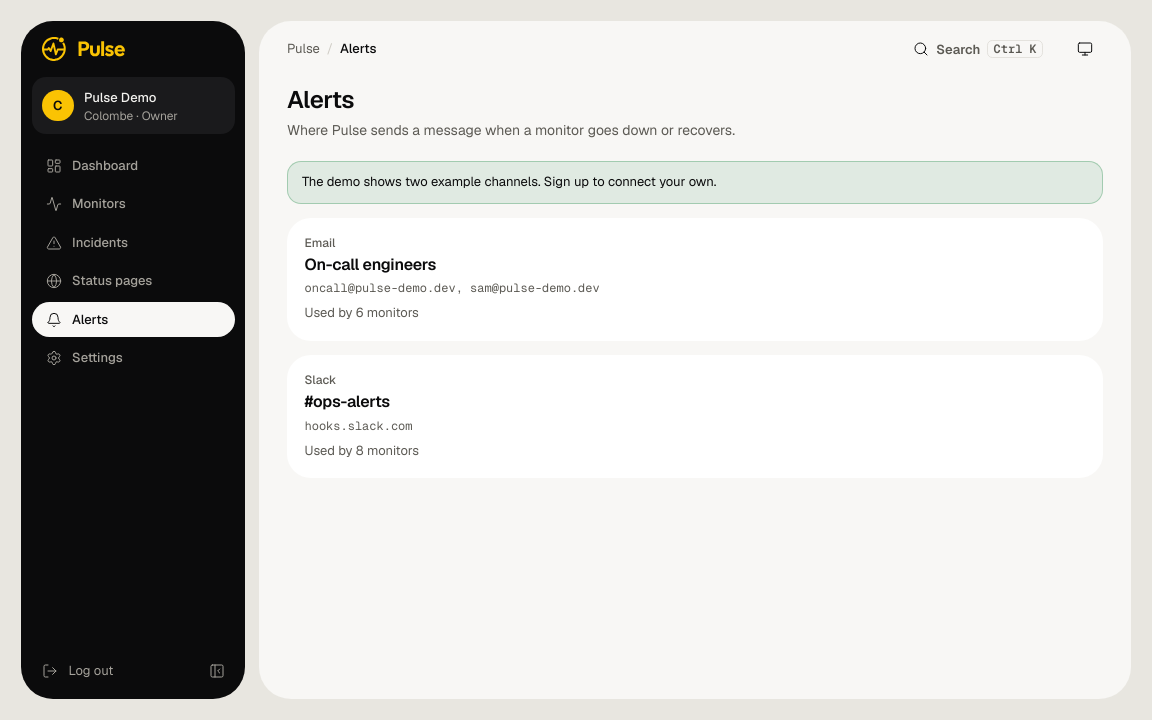
Test: Command palette › opens with Cmd+K and from the search button
Expected: the heading "Alerts" is shown, x1=287 y1=84 x2=354 y2=115
Type keys "{Meta>}k{/Meta}"
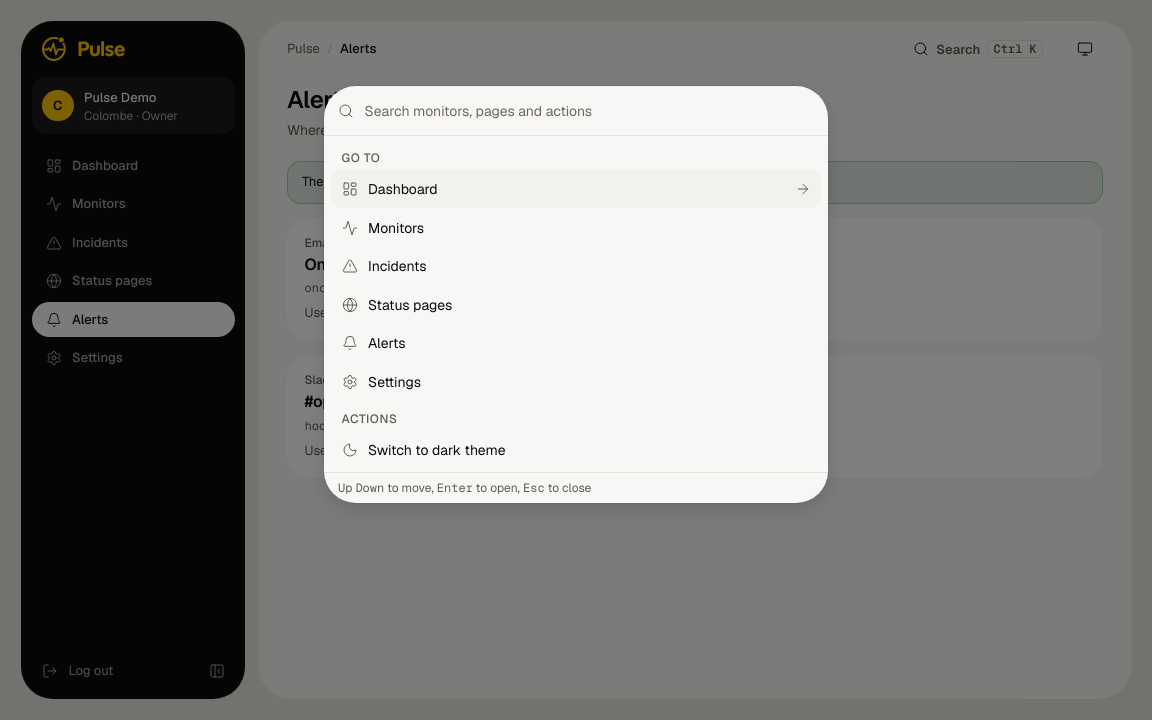
Expected: the dropdown is shown, x1=364 y1=86 x2=814 y2=135
Press Escape
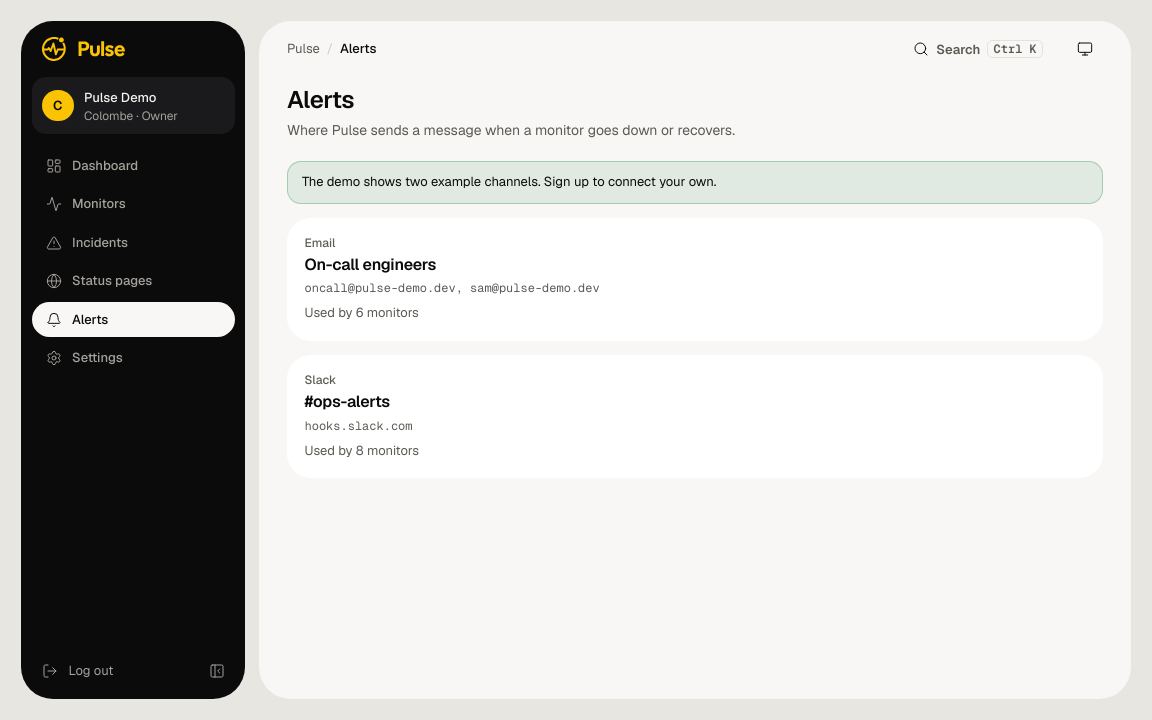
Expected: the dropdown is gone
Click the button with aria-label "Search and commands".
click(978, 49)  # box x1=896 y1=31 x2=1060 y2=67
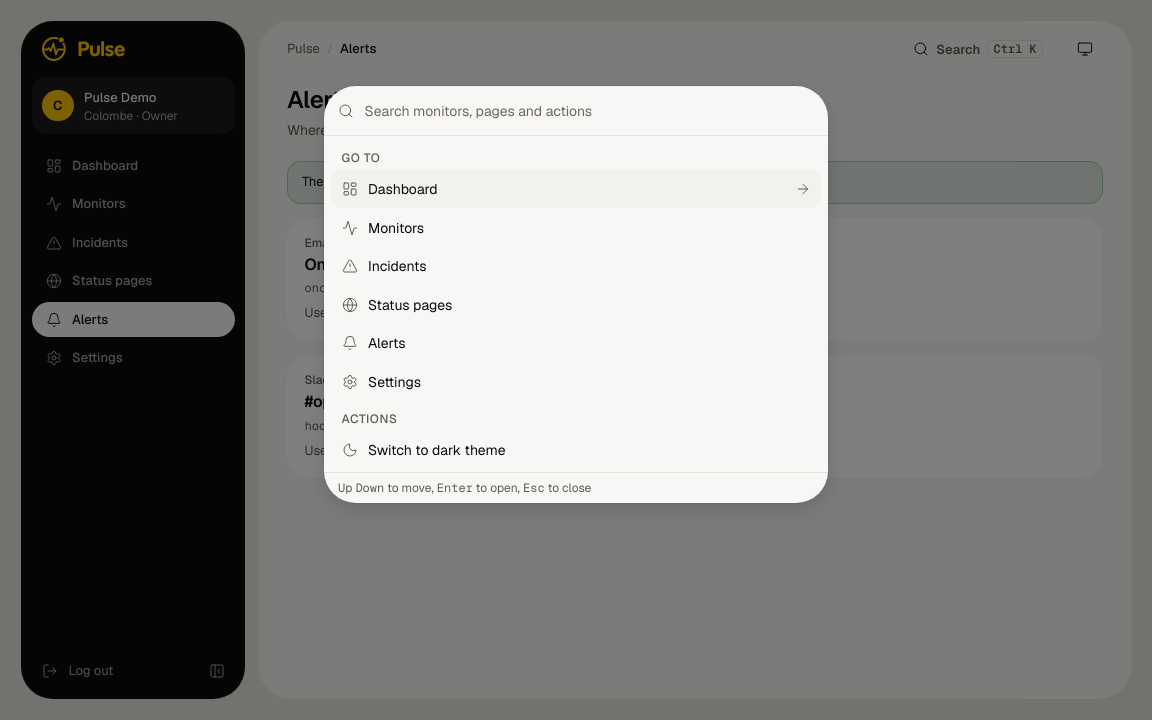
Expected: the dropdown is shown, x1=364 y1=86 x2=814 y2=135
